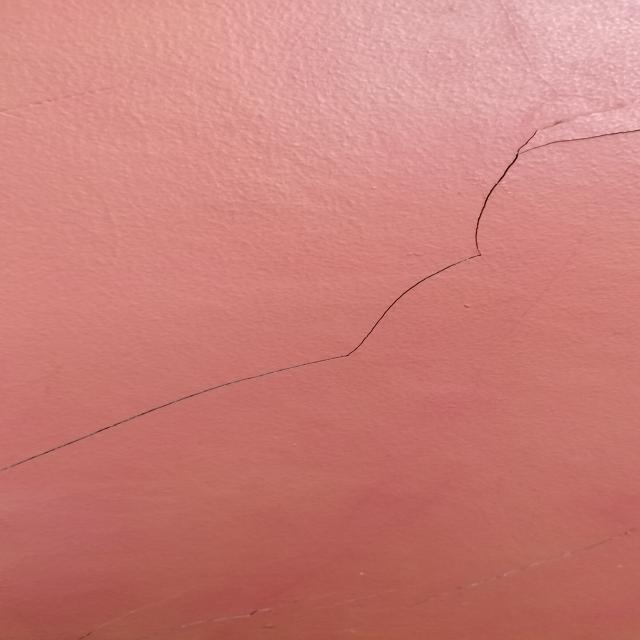Crack: (3, 121, 640, 474)
